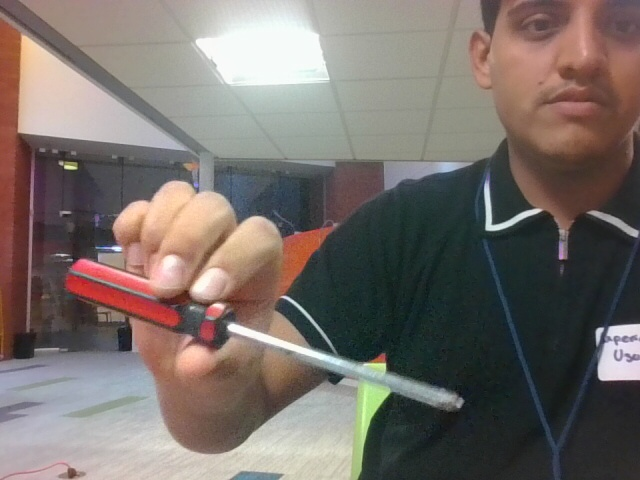destornillador: (65, 260, 461, 411)
